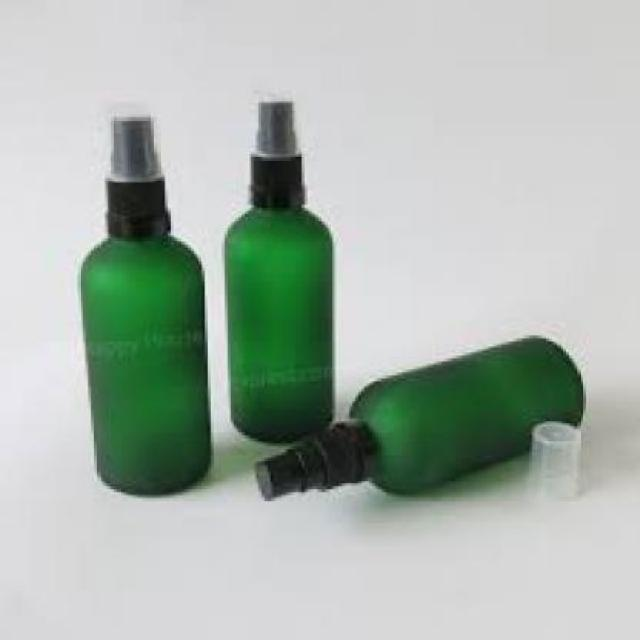kaca: (345, 336, 580, 492), (77, 231, 211, 498), (222, 204, 331, 442)
